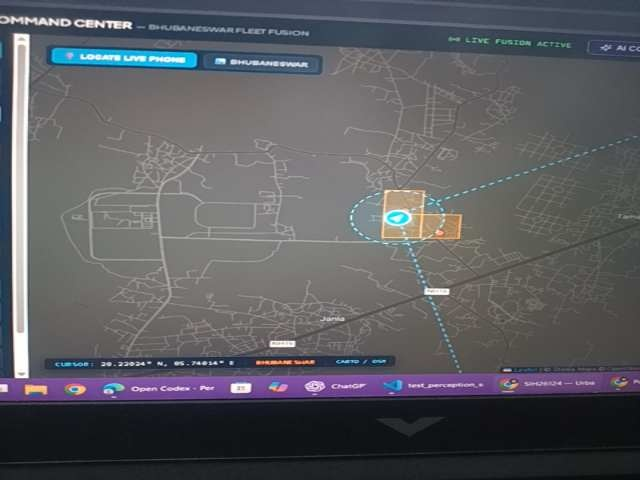pothole: (105, 404, 314, 480), (535, 404, 640, 480)
